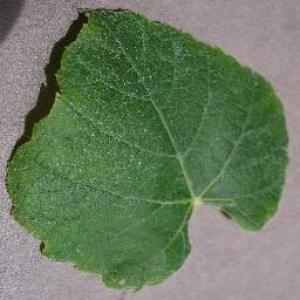Folha: (3, 6, 290, 292)
